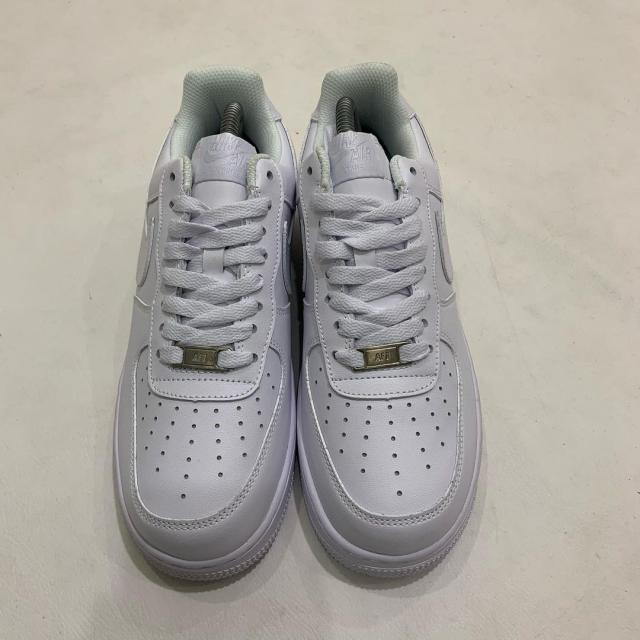nike fake air force: (297, 48, 493, 582), (112, 58, 294, 590)
